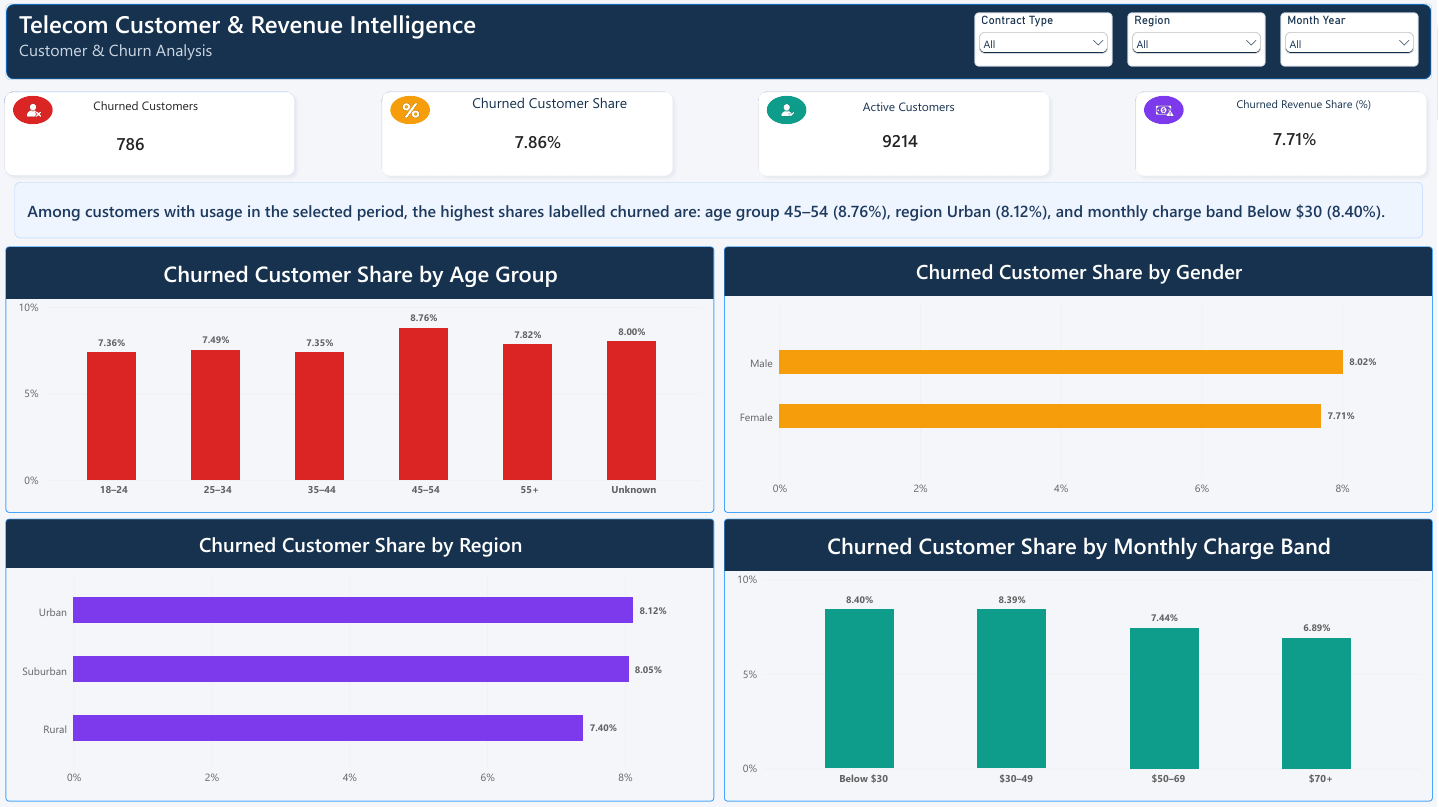

The dashboard page shown, as its layout file describes it:
{"tool":"powerbi","page":{"name":"Customer & Churn Analysis","canvas":[1920,1080],"ordinal":1},"visuals":[{"type":"shape","box":[10,6,1902,102],"z":0},{"type":"textbox","box":[28,10,760,112],"z":1000},{"type":"slicer","fields":{"Values":["DimDate.Month Year"]},"box":[1710,18,184,72],"z":2000},{"type":"slicer","fields":{"Values":["DimCustomer.Region"]},"box":[1506,18,184,72],"z":3000},{"type":"slicer","fields":{"Values":["DimCustomer.ContractType"]},"box":[1302,18,184,72],"z":4000},{"type":"group","id":"g1","title":"Group 2","box":[0,115,405,130],"z":5000,"group":"g24"},{"type":"group","id":"g2","title":"Group 7","box":[0,115,405,130],"z":5000},{"type":"shape","box":[0,115,405,130],"z":5000,"group":"g6"},{"type":"shape","box":[502.5,115,405.7,130],"z":5000,"group":"g7"},{"type":"group","id":"g3","title":"Group 2","box":[502.5,115,405.7,130],"z":5000,"group":"g11"},{"type":"shape","box":[1005,115,405.7,130],"z":5000,"group":"g9"},{"type":"group","id":"g4","title":"Group 2","box":[1005,115,405.7,130],"z":5000,"group":"g12"},{"type":"shape","box":[1507.5,115,405.7,130],"z":5000,"group":"g10"},{"type":"group","id":"g5","title":"Group 2","box":[1507.5,115,405.7,130],"z":5000,"group":"g13"},{"type":"group","id":"g6","title":"Group 1","box":[0,115,405,130],"z":6000,"group":"g19"},{"type":"group","id":"g7","title":"Group 1","box":[502.5,115,405.7,130],"z":6000,"group":"g20"},{"type":"group","id":"g8","title":"Group 7","box":[502.5,115,405.7,130],"z":6000},{"type":"group","id":"g9","title":"Group 1","box":[1005,115,405.7,130],"z":6000,"group":"g21"},{"type":"group","id":"g10","title":"Group 1","box":[1507.5,115,405.7,130],"z":6000,"group":"g22"},{"type":"group","id":"g11","title":"Group 5","box":[502.5,115,405.7,130],"z":6001,"group":"g25"},{"type":"group","id":"g12","title":"Group 5","box":[1005,115,405.7,130],"z":6001,"group":"g26"},{"type":"group","id":"g13","title":"Group 5","box":[1507.5,115,405.7,130],"z":6001,"group":"g27"},{"type":"group","id":"g14","title":"Group 7","box":[1005,115,405.7,130],"z":7000},{"type":"shape","box":[20.4,129.4,52.5,37.8],"z":7000,"group":"g24"},{"type":"shape","box":[522.9,129.4,52.6,37.8],"z":7000,"group":"g11"},{"type":"shape","box":[1025.4,129.4,52.6,37.8],"z":7000,"group":"g12"},{"type":"shape","box":[1527.9,129.4,52.6,37.8],"z":7000,"group":"g13"},{"type":"group","id":"g15","title":"Group 3","box":[0,115,405,130],"z":7001,"group":"g1"},{"type":"group","id":"g16","title":"Group 3","box":[502.5,115,405.7,130],"z":7001,"group":"g3"},{"type":"group","id":"g17","title":"Group 3","box":[1005,115,405.7,130],"z":7001,"group":"g4"},{"type":"group","id":"g18","title":"Group 3","box":[1507.5,115,405.7,130],"z":7001,"group":"g5"},{"type":"group","id":"g19","title":"Group 4","box":[0,115,405,130],"z":7003,"group":"g15"},{"type":"group","id":"g20","title":"Group 4","box":[502.5,115,405.7,130],"z":7003,"group":"g16"},{"type":"group","id":"g21","title":"Group 4","box":[1005,115,405.7,130],"z":7003,"group":"g17"},{"type":"group","id":"g22","title":"Group 4","box":[1507.5,115,405.7,130],"z":7003,"group":"g18"},{"type":"group","id":"g23","title":"Group 7","box":[1507.5,115,405.7,130],"z":8000},{"type":"textbox","box":[621.1,124.6,232.5,45.5],"z":9000,"group":"g7"},{"type":"textbox","box":[1595,129.4,302,40.7],"z":9000,"group":"g10"},{"type":"textbox","box":[127,131.5,185.8,34.8],"z":9000,"group":"g6"},{"type":"textbox","box":[1140,132.5,170.7,33.3],"z":9000,"group":"g9"},{"type":"image","box":[24.8,135.1,45.1,26.3],"z":9000,"group":"g24"},{"type":"image","box":[527.4,135.1,45.2,26.3],"z":9000,"group":"g25"},{"type":"image","box":[1029.9,135.1,45.2,26.3],"z":9000,"group":"g26"},{"type":"image","box":[1529.1,135.5,50.6,25.9],"z":9000,"group":"g27"},{"type":"clusteredColumnChart","title":"Churned Customer Share by Age Group","fields":{"Category":["DimCustomer.Age Group"],"Y":["_Measures.Churn Share in Selected Period"]},"box":[10,330,945,355],"z":9000},{"type":"cardVisual","fields":{"Data":["_Measures.Revenue at Risk %"]},"box":[1683.7,157.5,136.1,56.7],"z":10000,"group":"g10"},{"type":"cardVisual","fields":{"Data":["_Measures.Active Customers in Selected Period"]},"box":[1163.2,160.5,136.1,56.7],"z":10000,"group":"g9"},{"type":"cardVisual","fields":{"Data":["_Measures.Churn Share in Selected Period"]},"box":[672,161,101.6,57.8],"z":10000,"group":"g7"},{"type":"cardVisual","fields":{"Data":["_Measures.Churned Customers in Selected Period"]},"box":[141.7,164.8,108.6,56.5],"z":10000,"group":"g6"},{"type":"cardVisual","fields":{"Data":["_Measures.Customer Churn Insight"]},"box":[21.6,244.4,1878.9,74.3],"z":10000},{"type":"clusteredBarChart","title":"Churned Customer Share by Gender","fields":{"Category":["DimCustomer.Gender"],"Y":["_Measures.Churn Share in Selected Period"]},"box":[967.5,330,945,355],"z":11000},{"type":"group","id":"g24","title":"Group 8","box":[0,115,405,130],"z":11002,"group":"g2"},{"type":"group","id":"g25","title":"Group 8","box":[502.5,115,405.7,130],"z":11002,"group":"g8"},{"type":"group","id":"g26","title":"Group 8","box":[1005,115,405.7,130],"z":11002,"group":"g14"},{"type":"group","id":"g27","title":"Group 8","box":[1507.5,115,405.7,130],"z":11002,"group":"g23"},{"type":"clusteredBarChart","title":"Churned Customer Share by Region","fields":{"Category":["DimCustomer.Region"],"Y":["_Measures.Churn Share in Selected Period"]},"box":[10,692.5,945,377.5],"z":12000},{"type":"clusteredColumnChart","title":"Churned Customer Share by Monthly Charge Band","fields":{"Category":["DimCustomer.Monthly Charge Band"],"Y":["_Measures.Churn Share in Selected Period"]},"box":[967.5,692.5,945,377.5],"z":13000}]}

Visuals, with their boxes in screenshot pixels (x1, y1, x2, y2), scaled from the page's 1920x1080 canvas onto the 1439x807 screenshot:
shape: bbox=[7, 4, 1433, 81]
textbox: bbox=[21, 7, 591, 91]
slicer - DimDate.Month Year: bbox=[1282, 13, 1420, 67]
slicer - DimCustomer.Region: bbox=[1129, 13, 1267, 67]
slicer - DimCustomer.ContractType: bbox=[976, 13, 1114, 67]
"Group 2" group: bbox=[0, 86, 304, 183]
"Group 7" group: bbox=[0, 86, 304, 183]
shape: bbox=[0, 86, 304, 183]
shape: bbox=[377, 86, 681, 183]
"Group 2" group: bbox=[377, 86, 681, 183]
shape: bbox=[753, 86, 1057, 183]
"Group 2" group: bbox=[753, 86, 1057, 183]
shape: bbox=[1130, 86, 1434, 183]
"Group 2" group: bbox=[1130, 86, 1434, 183]
"Group 1" group: bbox=[0, 86, 304, 183]
"Group 1" group: bbox=[377, 86, 681, 183]
"Group 7" group: bbox=[377, 86, 681, 183]
"Group 1" group: bbox=[753, 86, 1057, 183]
"Group 1" group: bbox=[1130, 86, 1434, 183]
"Group 5" group: bbox=[377, 86, 681, 183]
"Group 5" group: bbox=[753, 86, 1057, 183]
"Group 5" group: bbox=[1130, 86, 1434, 183]
"Group 7" group: bbox=[753, 86, 1057, 183]
shape: bbox=[15, 97, 55, 125]
shape: bbox=[392, 97, 431, 125]
shape: bbox=[769, 97, 808, 125]
shape: bbox=[1145, 97, 1185, 125]
"Group 3" group: bbox=[0, 86, 304, 183]
"Group 3" group: bbox=[377, 86, 681, 183]
"Group 3" group: bbox=[753, 86, 1057, 183]
"Group 3" group: bbox=[1130, 86, 1434, 183]
"Group 4" group: bbox=[0, 86, 304, 183]
"Group 4" group: bbox=[377, 86, 681, 183]
"Group 4" group: bbox=[753, 86, 1057, 183]
"Group 4" group: bbox=[1130, 86, 1434, 183]
"Group 7" group: bbox=[1130, 86, 1434, 183]
textbox: bbox=[466, 93, 640, 127]
textbox: bbox=[1195, 97, 1422, 127]
textbox: bbox=[95, 98, 234, 124]
textbox: bbox=[854, 99, 982, 124]
image: bbox=[19, 101, 52, 121]
image: bbox=[395, 101, 429, 121]
image: bbox=[772, 101, 806, 121]
image: bbox=[1146, 101, 1184, 121]
"Churned Customer Share by Age Group" clusteredColumnChart: bbox=[7, 247, 716, 512]
cardVisual - _Measures.Revenue at Risk %: bbox=[1262, 118, 1364, 160]
cardVisual - _Measures.Active Customers in Selected Period: bbox=[872, 120, 974, 162]
cardVisual - _Measures.Churn Share in Selected Period: bbox=[504, 120, 580, 163]
cardVisual - _Measures.Churned Customers in Selected Period: bbox=[106, 123, 188, 165]
cardVisual - _Measures.Customer Churn Insight: bbox=[16, 183, 1424, 238]
"Churned Customer Share by Gender" clusteredBarChart: bbox=[725, 247, 1433, 512]
"Group 8" group: bbox=[0, 86, 304, 183]
"Group 8" group: bbox=[377, 86, 681, 183]
"Group 8" group: bbox=[753, 86, 1057, 183]
"Group 8" group: bbox=[1130, 86, 1434, 183]
"Churned Customer Share by Region" clusteredBarChart: bbox=[7, 517, 716, 800]
"Churned Customer Share by Monthly Charge Band" clusteredColumnChart: bbox=[725, 517, 1433, 800]
